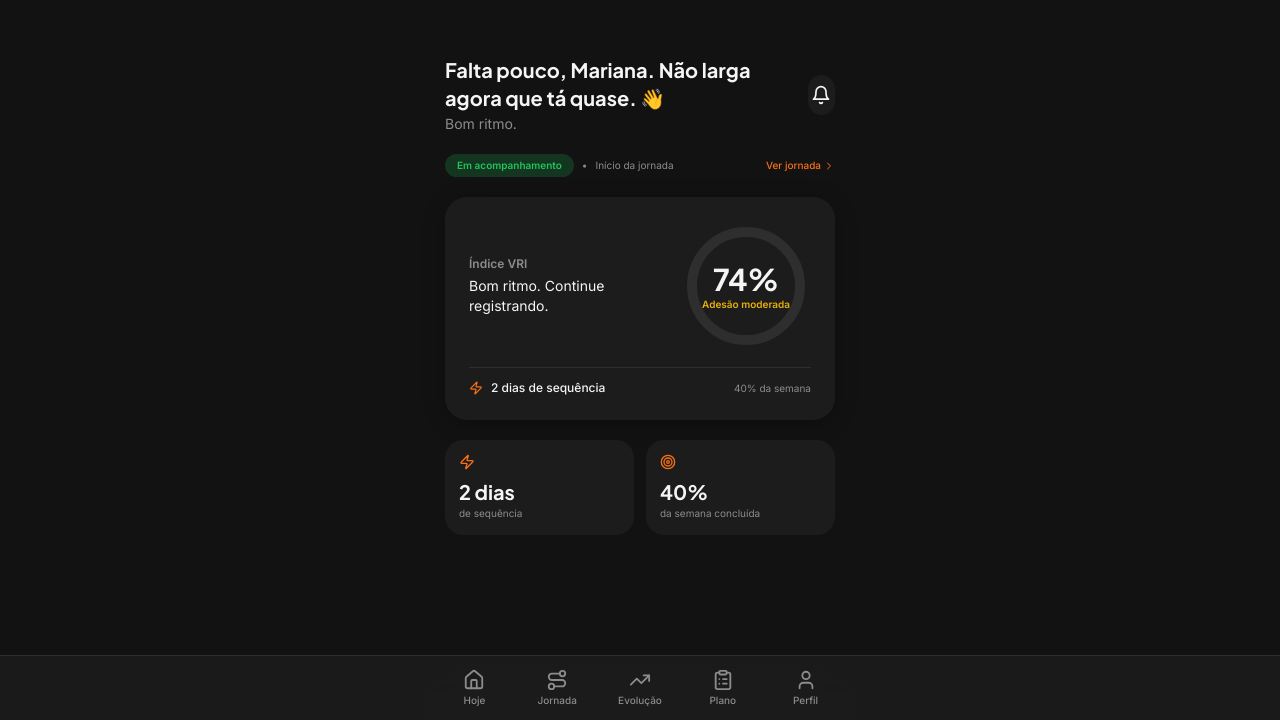
Test: Home / sino abre painel (PDF do Ernâni, tela 02) › tocar no sino abre o painel sobre a Home
The width and height of the screenshot is (1280, 720).
Expected: the element with test id "home-stat-cards" is shown, [445,440,835,535]
Expected: the text "Nenhuma notificação por aqui" is not shown
What coordinates should you click on to do the following:
click the button named "Abrir notificações"
I would click on:
 (821, 95)
Its box is [808,75,835,115].
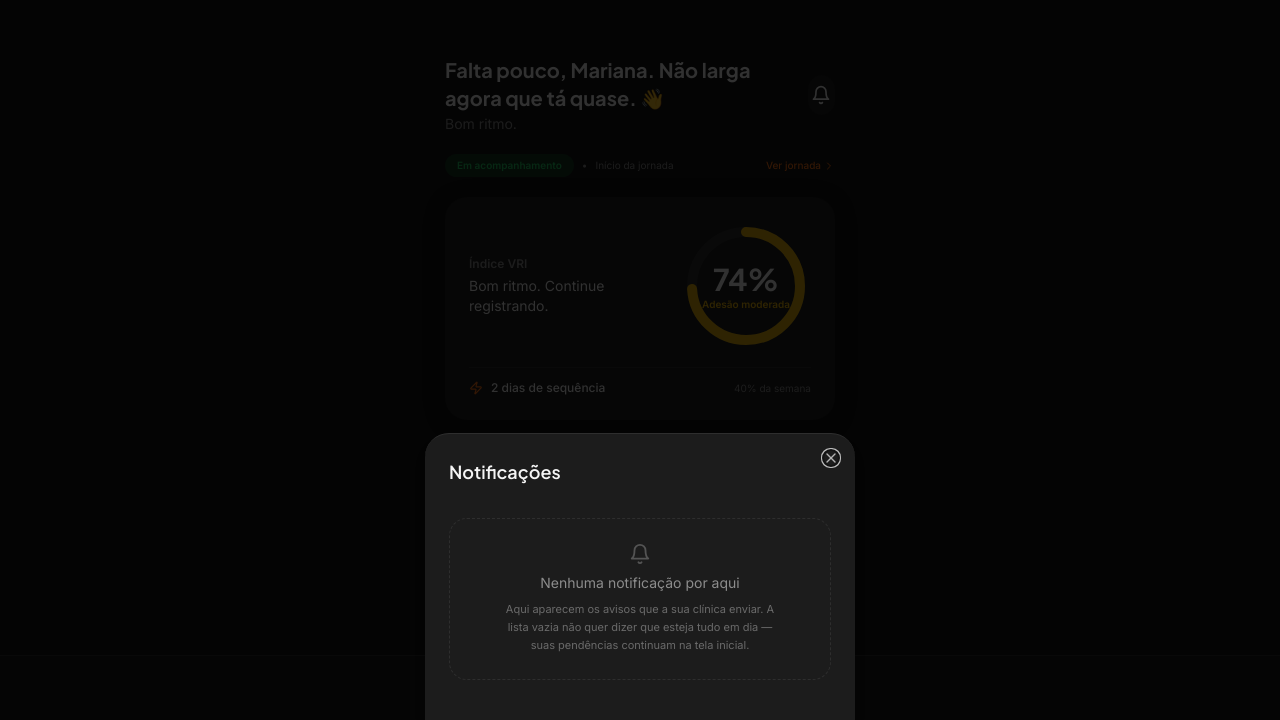
Expected: the text "Nenhuma notificação por aqui" is shown, [540,573,740,593]
